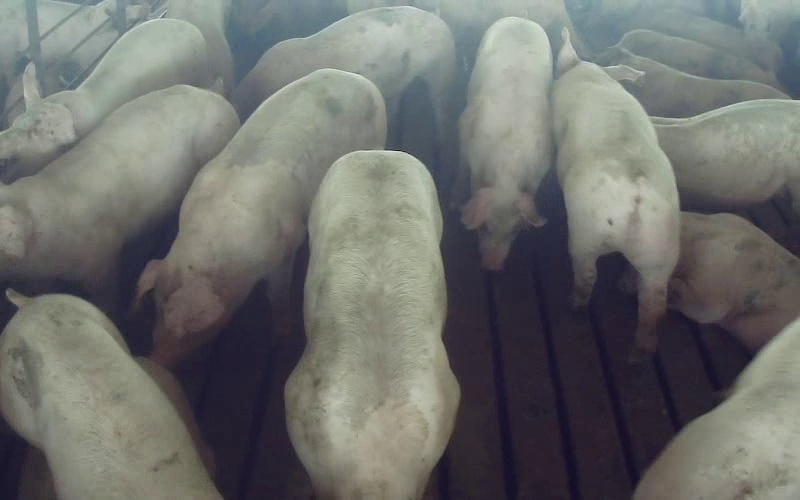pig: (138, 69, 384, 366), (286, 151, 459, 499), (0, 85, 239, 291), (0, 291, 220, 499), (552, 28, 679, 353), (0, 19, 206, 182), (232, 7, 454, 141), (454, 17, 551, 270), (669, 212, 799, 350), (651, 99, 799, 211), (597, 46, 789, 117), (617, 29, 780, 89)
